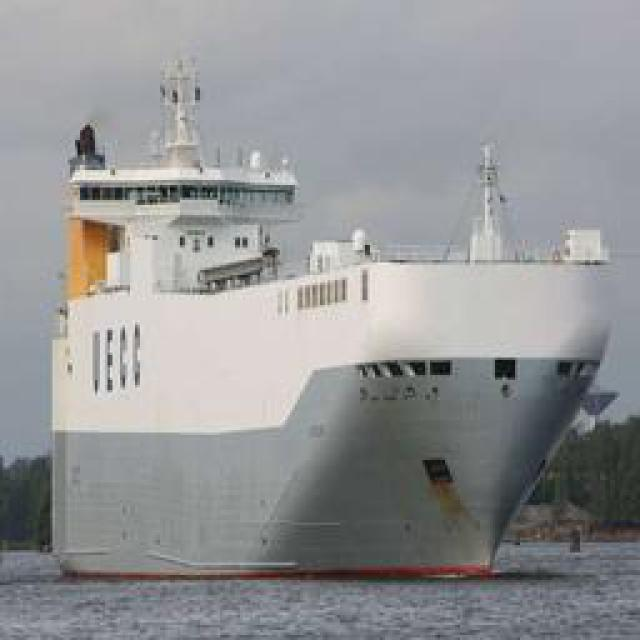Ship: (41, 76, 621, 586)
